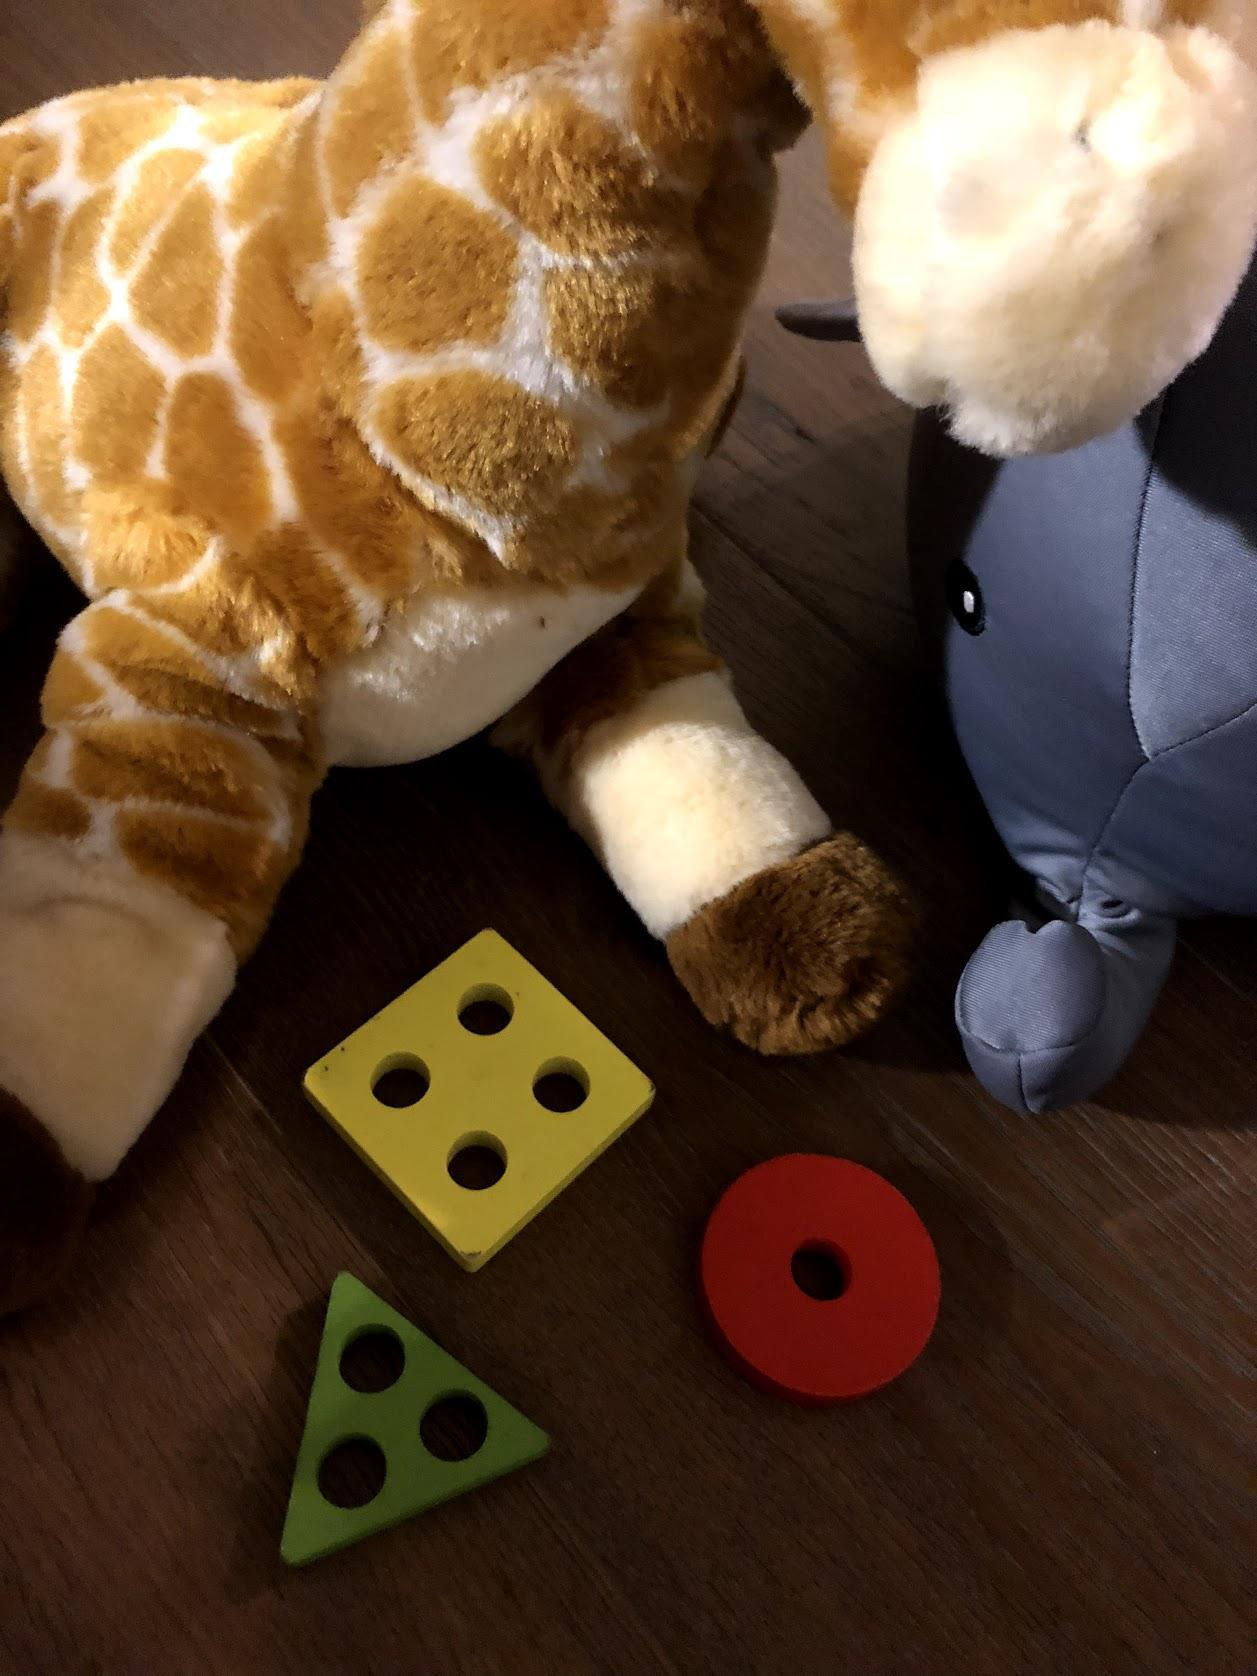Circle: (693, 1149, 956, 1405)
Square: (304, 925, 662, 1268)
Triangle: (265, 1272, 551, 1565)
